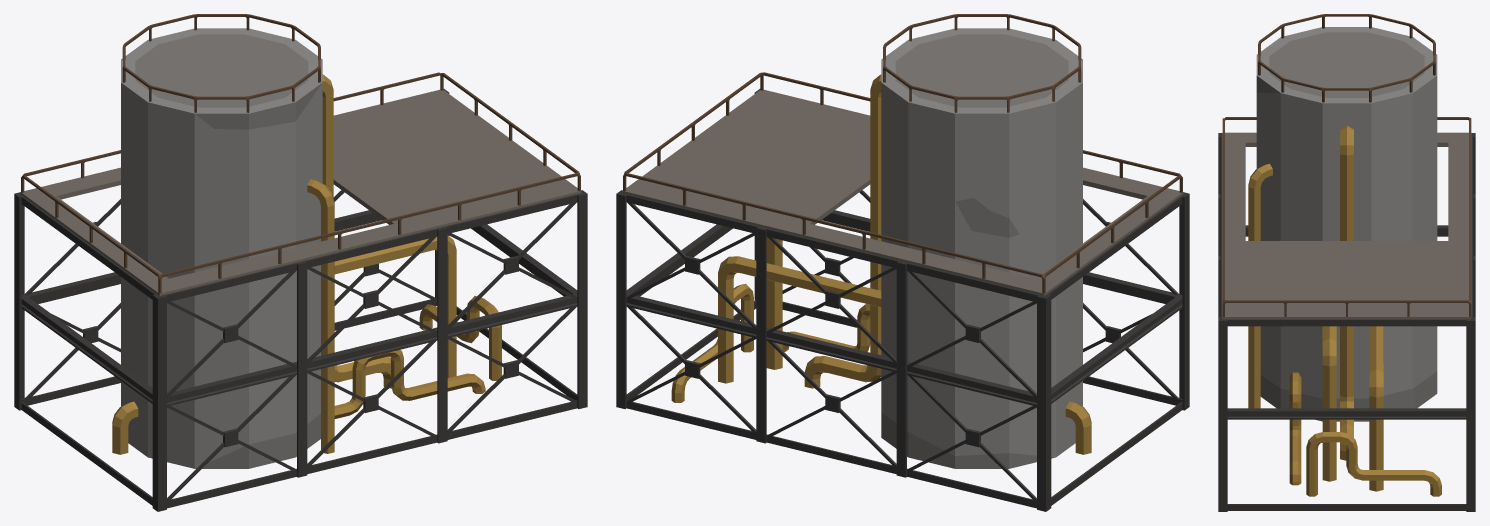
File: SM_Props_Industrial_Tank_03.fbx
3 renders of one model, left to right at view 1: azimuth 30°, elevation 25°; view 2: azimuth 150°, elevation 25°; view 3: azimuth 270°, elevation 25°, orthographic. The views are drawn at different scales.
Parts seen in each view (by area): view 1: SM_Props_Industrial_Tank_03; view 2: SM_Props_Industrial_Tank_03; view 3: SM_Props_Industrial_Tank_03.
Part boxes in pixels (x1,y1,x2,y2): SM_Props_Industrial_Tank_03: [14, 14, 587, 511]; SM_Props_Industrial_Tank_03: [616, 14, 1189, 511]; SM_Props_Industrial_Tank_03: [1218, 14, 1475, 511].
Bounding box in the file's own units: 1900 × 1564 × 1100.
